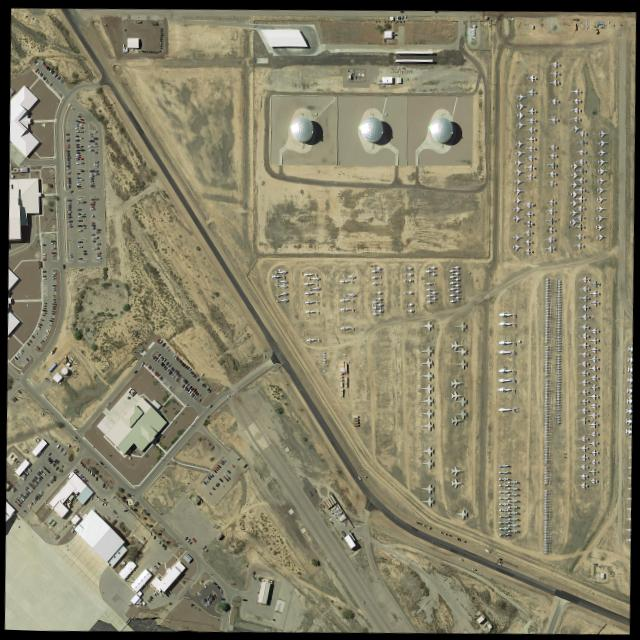large-vehicle: (49, 345, 56, 353), (484, 547, 490, 552)
plane: (419, 356, 433, 368), (450, 464, 464, 475), (420, 457, 434, 468), (420, 419, 434, 430), (421, 482, 434, 493), (420, 382, 433, 393), (450, 377, 464, 387), (450, 389, 464, 399), (450, 414, 464, 424), (453, 320, 467, 330), (420, 445, 434, 455), (454, 358, 467, 368), (454, 396, 467, 406), (454, 408, 467, 418), (451, 477, 464, 487), (454, 508, 467, 518), (451, 339, 464, 349), (420, 320, 433, 330), (420, 345, 433, 355), (420, 407, 433, 417), (420, 395, 433, 405), (420, 370, 433, 380), (421, 496, 434, 505), (454, 346, 467, 354), (578, 311, 589, 320), (513, 195, 525, 203), (514, 167, 526, 175), (570, 95, 580, 104), (523, 199, 533, 208), (570, 170, 581, 178), (574, 175, 585, 183), (570, 180, 581, 188), (573, 203, 584, 211), (573, 222, 584, 230), (597, 147, 608, 155), (596, 185, 607, 193), (596, 194, 607, 202), (521, 218, 532, 226), (513, 213, 524, 221), (513, 204, 524, 212), (514, 176, 525, 184), (514, 157, 525, 165), (515, 148, 526, 156), (524, 143, 535, 151), (524, 134, 535, 142), (512, 232, 523, 240), (521, 237, 532, 245), (512, 242, 523, 250), (521, 246, 532, 254), (548, 96, 559, 104), (545, 169, 556, 177), (545, 178, 556, 186), (587, 419, 598, 427), (587, 438, 598, 446), (577, 443, 588, 451), (587, 457, 598, 465), (587, 363, 598, 371), (578, 293, 589, 301), (578, 322, 589, 330), (587, 335, 598, 343), (586, 476, 597, 484), (595, 223, 607, 230), (570, 189, 580, 197), (574, 194, 584, 202), (570, 198, 580, 206), (569, 217, 579, 225), (598, 138, 608, 146), (576, 128, 586, 136), (570, 105, 580, 113), (597, 166, 607, 174), (522, 209, 532, 217), (514, 186, 524, 194), (524, 171, 534, 179), (524, 162, 534, 170), (515, 139, 525, 147), (516, 120, 526, 128), (526, 106, 536, 114), (526, 73, 536, 81), (549, 59, 559, 67), (549, 68, 559, 76), (545, 197, 555, 205), (578, 368, 588, 376), (578, 377, 588, 385), (578, 387, 588, 395), (578, 396, 588, 404), (578, 405, 588, 413), (587, 410, 597, 418), (578, 415, 588, 423), (587, 429, 597, 437), (587, 466, 597, 474), (577, 471, 587, 479), (588, 354, 598, 362), (579, 274, 589, 282), (588, 288, 598, 296), (578, 349, 588, 357), (578, 302, 588, 310), (578, 340, 588, 348), (588, 344, 598, 352), (575, 138, 586, 145), (570, 161, 581, 168), (574, 166, 585, 173), (569, 208, 580, 215), (573, 213, 584, 220), (596, 204, 607, 211), (596, 213, 607, 220), (596, 232, 607, 239), (524, 125, 535, 132), (516, 111, 527, 118), (516, 101, 527, 108), (516, 92, 527, 99), (548, 78, 559, 85), (547, 115, 558, 122), (546, 143, 557, 150), (546, 151, 557, 158), (587, 373, 598, 380), (587, 392, 598, 399), (587, 448, 598, 455), (577, 462, 588, 469), (576, 481, 587, 488), (578, 284, 589, 291), (588, 298, 599, 305), (587, 326, 598, 333), (578, 331, 589, 338), (574, 231, 583, 239), (526, 87, 535, 95), (597, 176, 607, 183), (575, 157, 585, 164), (574, 185, 584, 192), (573, 241, 583, 248), (598, 129, 608, 136), (597, 157, 607, 164), (571, 124, 581, 131), (570, 114, 580, 121), (570, 87, 580, 94), (524, 153, 534, 160), (525, 116, 535, 123), (522, 228, 532, 235), (545, 206, 555, 213), (546, 160, 556, 167), (545, 216, 555, 223), (544, 225, 554, 232), (544, 235, 554, 242), (544, 244, 554, 251), (588, 382, 598, 389), (588, 401, 598, 408), (577, 434, 587, 441), (577, 453, 587, 460), (578, 359, 588, 366), (589, 279, 599, 286), (575, 148, 585, 154)
small-vehicle: (35, 493, 40, 498), (55, 442, 60, 447), (16, 501, 21, 506), (482, 622, 487, 627), (45, 467, 50, 472), (42, 464, 47, 469), (30, 477, 35, 482), (201, 543, 206, 548), (35, 344, 40, 348), (45, 376, 49, 381), (73, 433, 77, 438), (40, 488, 44, 493), (38, 490, 42, 495), (32, 497, 37, 501), (62, 449, 66, 454), (50, 460, 54, 465), (99, 459, 103, 464), (49, 458, 53, 463), (20, 474, 24, 479), (12, 485, 16, 490), (11, 486, 15, 491), (342, 520, 346, 525), (34, 474, 38, 479), (39, 467, 43, 472), (38, 469, 42, 474), (38, 475, 42, 480), (29, 479, 33, 484), (165, 366, 169, 371), (172, 352, 176, 357), (192, 536, 196, 541), (218, 477, 223, 481), (156, 337, 160, 342), (161, 341, 166, 345), (140, 360, 144, 365), (53, 72, 58, 76), (168, 588, 172, 592), (361, 599, 365, 603), (166, 590, 170, 594), (154, 590, 158, 594), (15, 353, 19, 357), (25, 356, 29, 360), (17, 388, 21, 392), (13, 395, 17, 399), (12, 397, 16, 401), (48, 457, 52, 461), (37, 492, 41, 496), (34, 495, 38, 499), (27, 503, 31, 507), (49, 478, 53, 482), (59, 446, 63, 450), (55, 459, 59, 463), (55, 465, 59, 469), (52, 462, 56, 466), (106, 400, 110, 404), (46, 455, 50, 459), (47, 451, 51, 455), (18, 499, 22, 503), (15, 496, 19, 500), (13, 498, 17, 502), (25, 470, 29, 474), (23, 471, 27, 475), (22, 473, 26, 477), (105, 514, 109, 518), (165, 592, 169, 596), (22, 494, 26, 498), (42, 471, 46, 475), (36, 471, 40, 475), (39, 474, 43, 478), (36, 477, 40, 481), (32, 476, 36, 480), (26, 489, 30, 493), (31, 484, 35, 488), (29, 486, 33, 490), (28, 481, 32, 485), (23, 486, 27, 490), (200, 371, 204, 375), (192, 387, 196, 391), (181, 382, 185, 386), (189, 390, 193, 394), (187, 366, 191, 370), (165, 360, 169, 364), (167, 368, 171, 372), (173, 368, 177, 372), (170, 371, 174, 375), (178, 373, 182, 377), (180, 361, 184, 365), (182, 362, 186, 366), (231, 463, 235, 467), (236, 455, 240, 459), (243, 463, 247, 467), (357, 475, 361, 479), (184, 535, 188, 539), (186, 537, 190, 541), (153, 564, 157, 568), (148, 595, 152, 599), (211, 485, 215, 489), (208, 490, 212, 494), (208, 473, 212, 477), (217, 463, 221, 467), (220, 482, 224, 486), (162, 364, 166, 368), (34, 67, 38, 71), (158, 338, 162, 342), (154, 356, 158, 360), (39, 72, 43, 76), (154, 370, 158, 374), (166, 346, 170, 350), (157, 352, 161, 356), (70, 105, 74, 109), (49, 67, 53, 71), (55, 74, 59, 78), (58, 77, 62, 81), (213, 592, 216, 597), (54, 457, 57, 462), (77, 472, 82, 475), (79, 474, 84, 477), (102, 482, 105, 487), (83, 478, 88, 481), (183, 383, 186, 388), (188, 388, 191, 393), (167, 361, 170, 366), (175, 369, 178, 374), (163, 544, 166, 549), (204, 597, 207, 601), (205, 595, 208, 599), (197, 591, 201, 594), (203, 584, 207, 587), (213, 581, 217, 584), (217, 584, 220, 588), (219, 587, 222, 591), (242, 597, 246, 600), (253, 575, 256, 579), (392, 32, 396, 35), (159, 592, 163, 595), (42, 336, 46, 339), (40, 338, 44, 341), (31, 334, 35, 337), (26, 341, 30, 344), (43, 333, 47, 336), (45, 328, 49, 331), (36, 326, 40, 329), (37, 324, 41, 327), (41, 310, 45, 313), (50, 316, 54, 319), (40, 317, 44, 320), (49, 318, 53, 321), (38, 322, 42, 325), (69, 189, 73, 192), (96, 227, 100, 230), (153, 591, 156, 595), (73, 467, 77, 470), (31, 499, 35, 502), (30, 500, 33, 504), (28, 502, 32, 505), (23, 508, 26, 512), (46, 482, 49, 486), (74, 469, 78, 472), (396, 15, 399, 19), (398, 14, 401, 18), (434, 9, 438, 12), (104, 484, 107, 488), (81, 476, 85, 479), (95, 475, 98, 479), (86, 466, 89, 470), (81, 461, 84, 465), (79, 459, 82, 463), (19, 498, 23, 501), (28, 466, 31, 470), (123, 508, 127, 511), (153, 534, 156, 538), (23, 493, 27, 496), (25, 491, 29, 494), (35, 479, 39, 482), (32, 483, 36, 486), (25, 485, 29, 488), (28, 487, 31, 491), (190, 370, 194, 373), (194, 373, 197, 377), (181, 376, 184, 380), (184, 380, 188, 383), (186, 381, 189, 385), (189, 384, 192, 388), (194, 389, 197, 393), (184, 386, 188, 389), (186, 387, 189, 391), (191, 392, 194, 396), (192, 394, 195, 398), (198, 397, 201, 401), (189, 368, 192, 372), (186, 365, 189, 369), (168, 370, 172, 373), (164, 365, 167, 369), (174, 354, 177, 358), (178, 357, 181, 361), (176, 356, 179, 360), (171, 367, 174, 371), (184, 364, 188, 367), (172, 373, 175, 377), (175, 376, 178, 380), (223, 472, 227, 475), (227, 468, 230, 472), (497, 561, 501, 564), (458, 556, 462, 559), (188, 540, 192, 543), (157, 560, 160, 564), (150, 594, 153, 598), (225, 477, 229, 480), (206, 386, 210, 389), (208, 388, 211, 392), (209, 403, 212, 407), (216, 481, 220, 484), (203, 480, 207, 483), (207, 475, 211, 478), (213, 468, 217, 471), (214, 466, 217, 470), (216, 465, 219, 469), (220, 461, 224, 464), (221, 459, 225, 462), (222, 457, 226, 460), (162, 357, 165, 361), (36, 69, 39, 73), (156, 357, 159, 361), (146, 363, 149, 367), (150, 366, 153, 370), (153, 369, 156, 373), (156, 372, 159, 376), (158, 374, 161, 378), (165, 344, 168, 348), (159, 354, 162, 358), (160, 356, 164, 359), (38, 70, 41, 74), (41, 73, 44, 77), (75, 118, 79, 121), (80, 117, 84, 120), (77, 114, 81, 117), (44, 77, 47, 81), (44, 63, 47, 67), (46, 65, 49, 69), (48, 81, 51, 85), (67, 224, 72, 226), (89, 202, 94, 204), (77, 244, 82, 246), (471, 567, 476, 569), (93, 162, 98, 164), (89, 174, 94, 176), (89, 169, 94, 171), (34, 330, 37, 333), (29, 338, 32, 341), (39, 340, 42, 343), (20, 348, 23, 351), (19, 350, 22, 353), (14, 355, 17, 358), (51, 311, 54, 314), (21, 496, 24, 499), (15, 482, 18, 485), (34, 481, 37, 484), (192, 372, 195, 375), (168, 384, 171, 387), (183, 378, 186, 381), (191, 386, 194, 389), (195, 391, 198, 394), (185, 401, 188, 404), (170, 366, 173, 369), (197, 377, 200, 380), (201, 382, 204, 385), (203, 383, 206, 386), (147, 598, 150, 601), (227, 475, 230, 478), (222, 474, 225, 477), (206, 477, 209, 480), (214, 482, 217, 485), (205, 478, 208, 481), (210, 472, 213, 475), (161, 362, 164, 365), (160, 360, 163, 363), (148, 365, 151, 368), (134, 369, 137, 372), (159, 376, 162, 379), (79, 122, 82, 125), (41, 60, 44, 63), (43, 62, 46, 65), (51, 70, 54, 73), (60, 79, 63, 82), (207, 594, 209, 598), (209, 592, 211, 596), (207, 600, 209, 604), (209, 598, 211, 602), (211, 594, 213, 598), (220, 597, 224, 599), (258, 576, 260, 580), (51, 246, 55, 248), (42, 257, 46, 259), (52, 283, 56, 285), (52, 288, 56, 290), (52, 297, 56, 299), (52, 302, 56, 304), (42, 308, 46, 310), (51, 309, 55, 311), (41, 313, 45, 315), (51, 251, 55, 253), (77, 228, 81, 230), (67, 222, 71, 224), (68, 219, 72, 221), (68, 215, 72, 217), (67, 212, 71, 214), (67, 198, 71, 200), (81, 200, 85, 202), (90, 206, 94, 208), (90, 197, 94, 199), (94, 197, 98, 199), (77, 197, 81, 199), (77, 223, 81, 225), (77, 218, 81, 220), (76, 207, 80, 209), (68, 252, 72, 254), (97, 256, 101, 258), (96, 251, 100, 253), (91, 239, 95, 241), (96, 242, 100, 244), (91, 223, 95, 225), (90, 214, 94, 216), (81, 211, 85, 213), (77, 212, 81, 214), (401, 14, 403, 18), (400, 9, 404, 11), (405, 13, 407, 17), (92, 471, 94, 475), (90, 470, 92, 474), (88, 468, 90, 472), (85, 465, 87, 469), (83, 463, 85, 467), (42, 274, 46, 276), (593, 562, 597, 564), (62, 263, 64, 267), (158, 539, 160, 543), (162, 542, 164, 546), (226, 394, 230, 396), (94, 160, 98, 162), (80, 148, 84, 150), (75, 145, 79, 147), (75, 138, 79, 140), (75, 136, 79, 138), (79, 136, 83, 138), (89, 148, 93, 150), (89, 144, 93, 146), (89, 139, 93, 141), (88, 134, 92, 136), (93, 136, 97, 138), (76, 171, 80, 173), (89, 179, 93, 181), (75, 161, 79, 163), (66, 166, 70, 168), (66, 160, 70, 162), (66, 155, 70, 157), (79, 120, 83, 122), (205, 602, 207, 605), (210, 596, 212, 599), (42, 243, 45, 245), (42, 252, 45, 254), (52, 276, 55, 278), (43, 301, 46, 303), (43, 303, 46, 305), (52, 307, 55, 309), (49, 321, 52, 323), (51, 241, 54, 243), (51, 239, 54, 241), (67, 207, 70, 209), (68, 205, 71, 207), (77, 200, 80, 202), (67, 182, 70, 184), (69, 254, 72, 256), (83, 249, 86, 251), (77, 214, 80, 216), (82, 223, 85, 225), (82, 214, 85, 216), (42, 276, 45, 278), (77, 184, 80, 186), (77, 182, 80, 184), (177, 372, 179, 375), (180, 359, 182, 362), (77, 179, 80, 181), (76, 148, 79, 150), (75, 134, 78, 136), (94, 150, 97, 152), (80, 157, 83, 159), (76, 157, 79, 159), (67, 176, 70, 178), (77, 175, 80, 177), (90, 181, 93, 183), (67, 178, 70, 180), (66, 153, 69, 155), (66, 151, 69, 153), (80, 161, 83, 163), (75, 121, 78, 123), (66, 145, 69, 147), (66, 138, 69, 140), (66, 136, 69, 138), (48, 66, 50, 69), (90, 200, 95, 201), (77, 240, 82, 241), (51, 254, 55, 255), (52, 286, 56, 287), (52, 300, 56, 301), (42, 306, 46, 307), (67, 210, 71, 211), (90, 205, 94, 206), (78, 257, 82, 258), (91, 233, 95, 234), (42, 270, 46, 271), (76, 151, 80, 152), (93, 142, 97, 143), (75, 130, 79, 131), (79, 130, 83, 131), (94, 172, 98, 173), (90, 184, 94, 185), (66, 170, 70, 171), (66, 164, 70, 165), (74, 126, 78, 127), (66, 132, 68, 134), (42, 255, 45, 256), (52, 305, 55, 306), (52, 274, 55, 275), (67, 203, 70, 204), (67, 201, 70, 202), (96, 247, 99, 248), (83, 252, 86, 253), (91, 221, 94, 222), (82, 226, 85, 227), (52, 272, 55, 273), (67, 181, 70, 182), (76, 153, 79, 154), (94, 165, 97, 166), (76, 143, 79, 144), (79, 126, 82, 127), (76, 155, 79, 156), (90, 177, 93, 178), (66, 162, 69, 163), (66, 158, 69, 159), (66, 149, 69, 150), (94, 130, 97, 131), (66, 143, 69, 144)
storage-tank: (289, 114, 314, 142), (429, 115, 454, 142), (359, 114, 383, 142)
